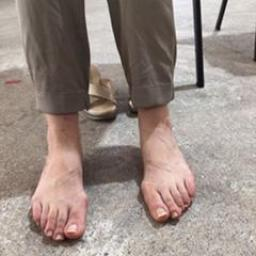Front View -Both Feet-: (19, 86, 203, 248)
